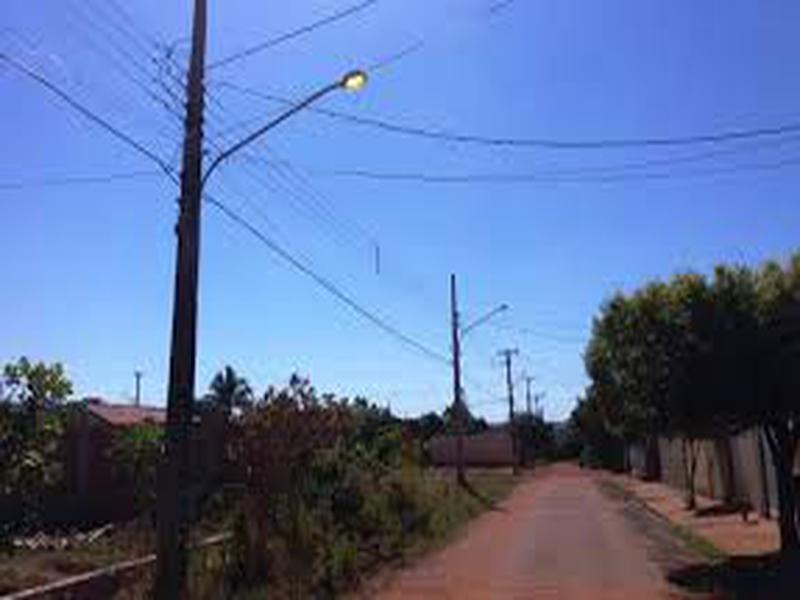IP: (228, 69, 384, 160), (468, 300, 517, 336)
